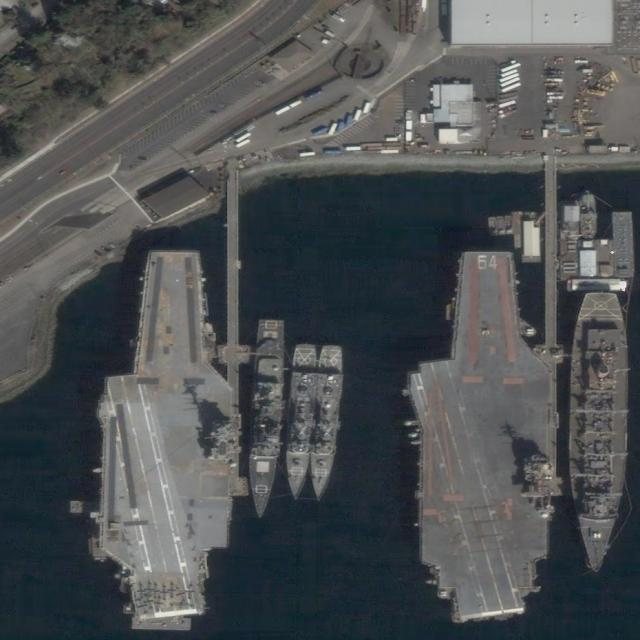Aircraft Carrier: (88, 246, 242, 623), (402, 250, 557, 619)
Cruiser: (248, 319, 284, 519)
Dock: (222, 173, 252, 381), (542, 161, 564, 361)
Frigate: (281, 343, 319, 499), (307, 345, 345, 501)
Other Ship: (582, 193, 597, 239)
Other Warship: (567, 292, 628, 573)
